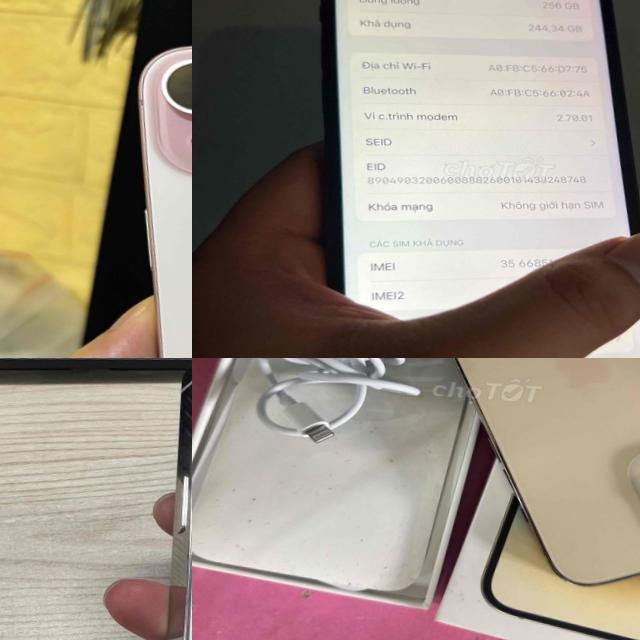gen_12_13: (287, 0, 640, 358)
gen_14: (399, 358, 640, 594), (137, 358, 192, 640)
gen_15: (90, 21, 192, 358)
